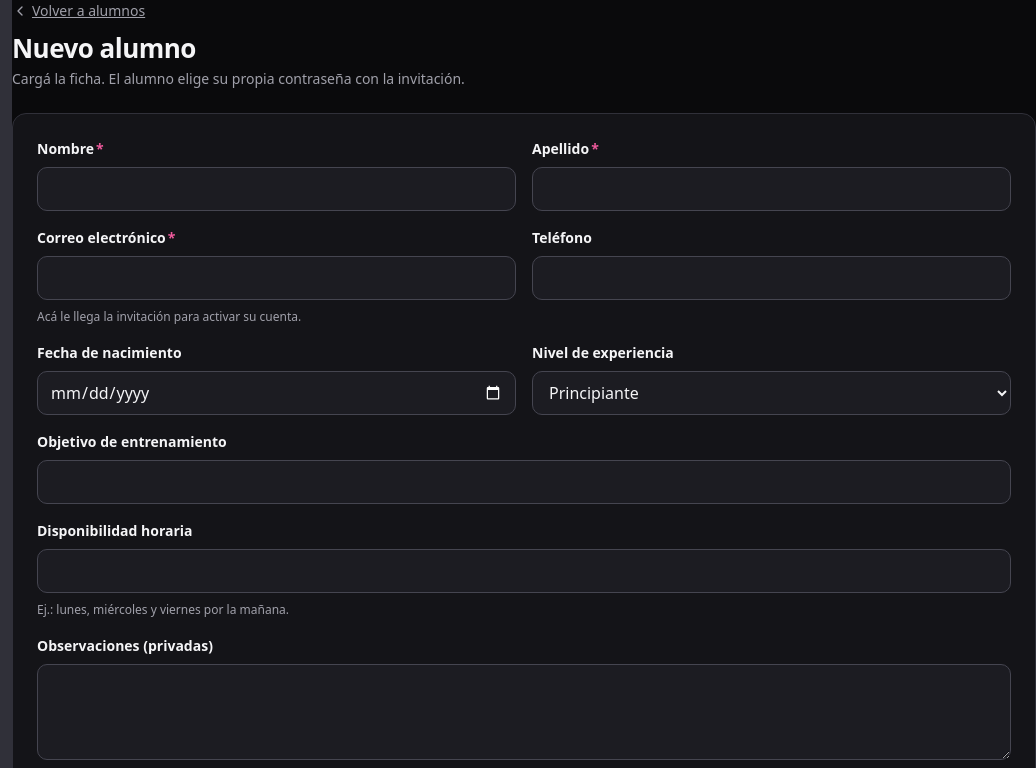
alta de alumno › muestra "correo ya registrado" junto al campo
Type "A" into the field labelled "Nombre*" at (276, 189), box x1=37 y1=167 x2=516 y2=211
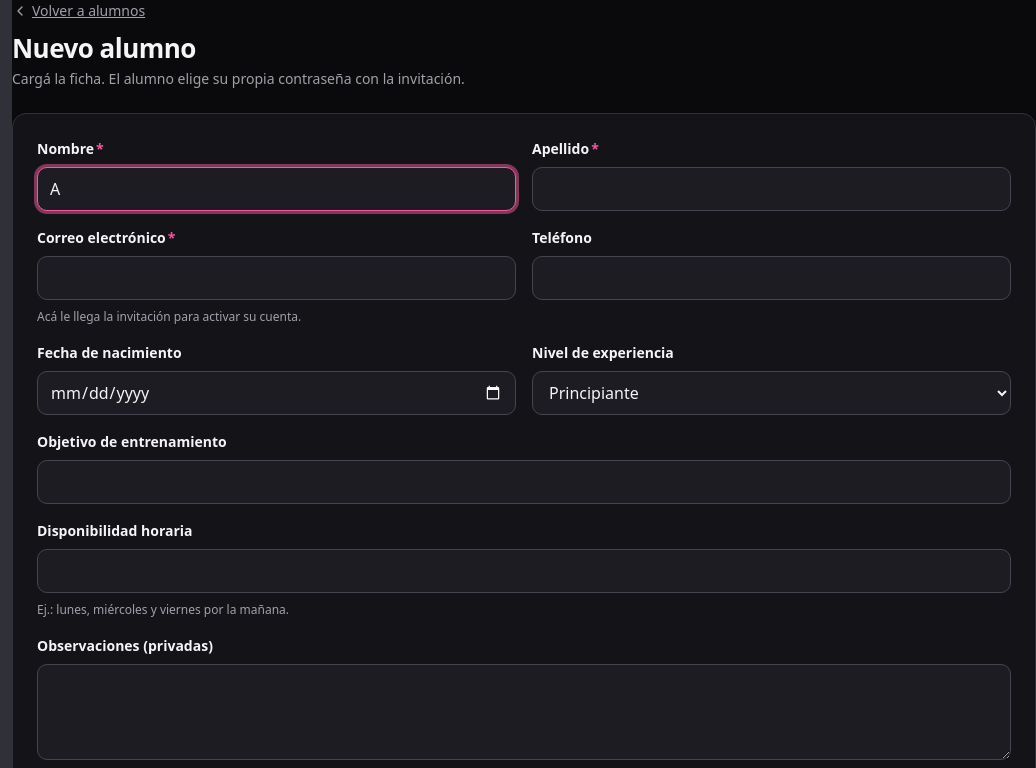
Type "B" into the field labelled "Apellido*" at (772, 189), box x1=532 y1=167 x2=1011 y2=211
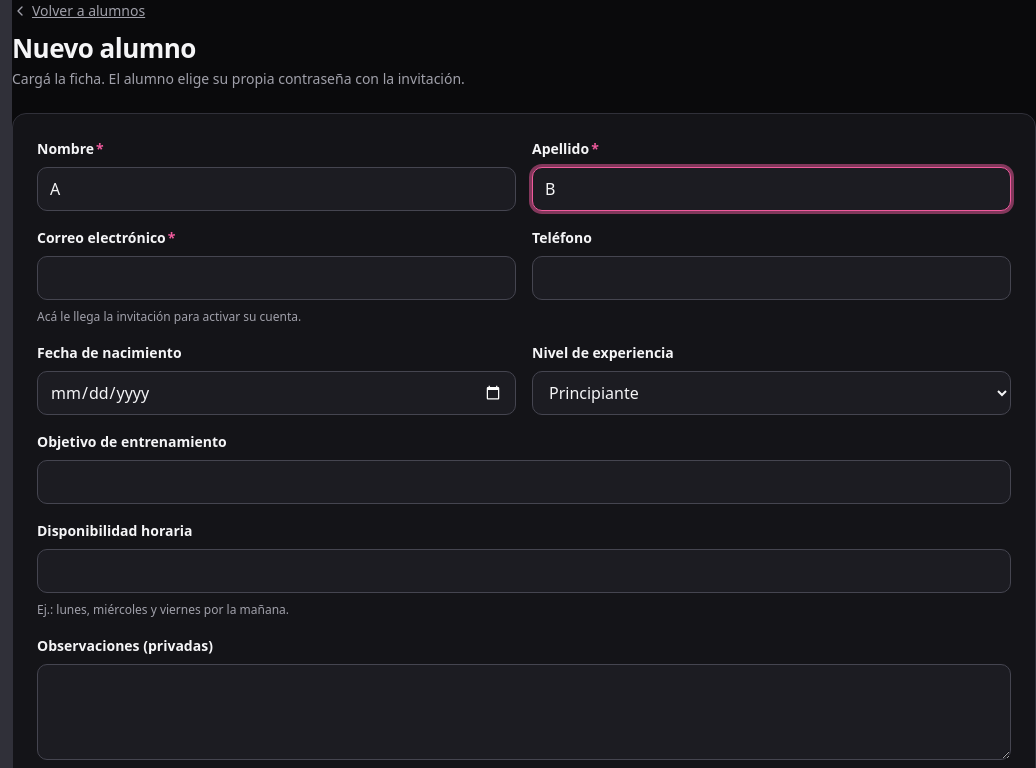
Type "dup@test.com" into the field labelled "Correo electrónico*" at (276, 278), box x1=37 y1=256 x2=516 y2=300
(page scrolled)
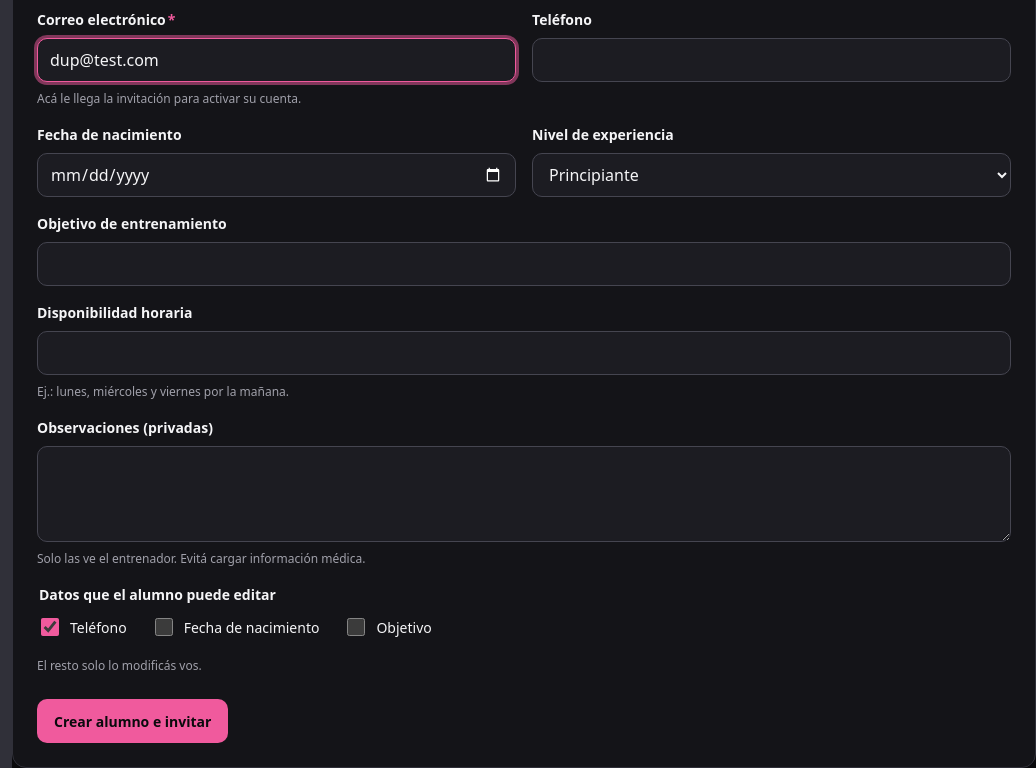
Click the button "Crear alumno e invitar" at (133, 721), box x1=37 y1=699 x2=228 y2=743
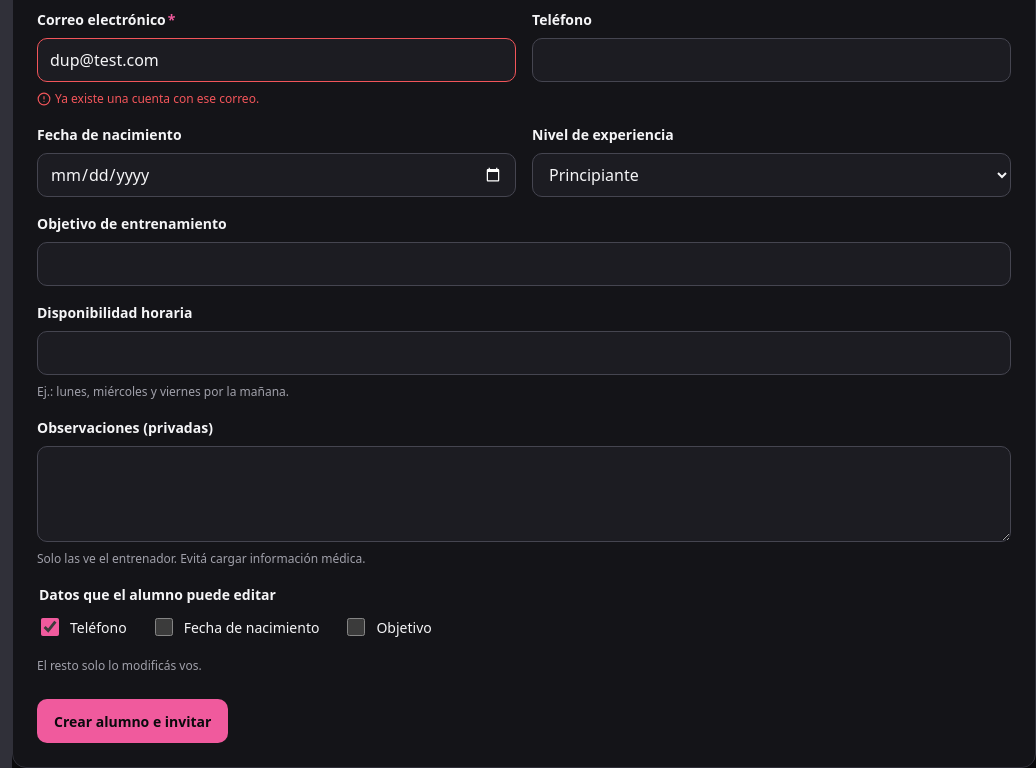
Now the text "Ya existe una cuenta con ese correo." is shown, box x1=37 y1=90 x2=259 y2=107
